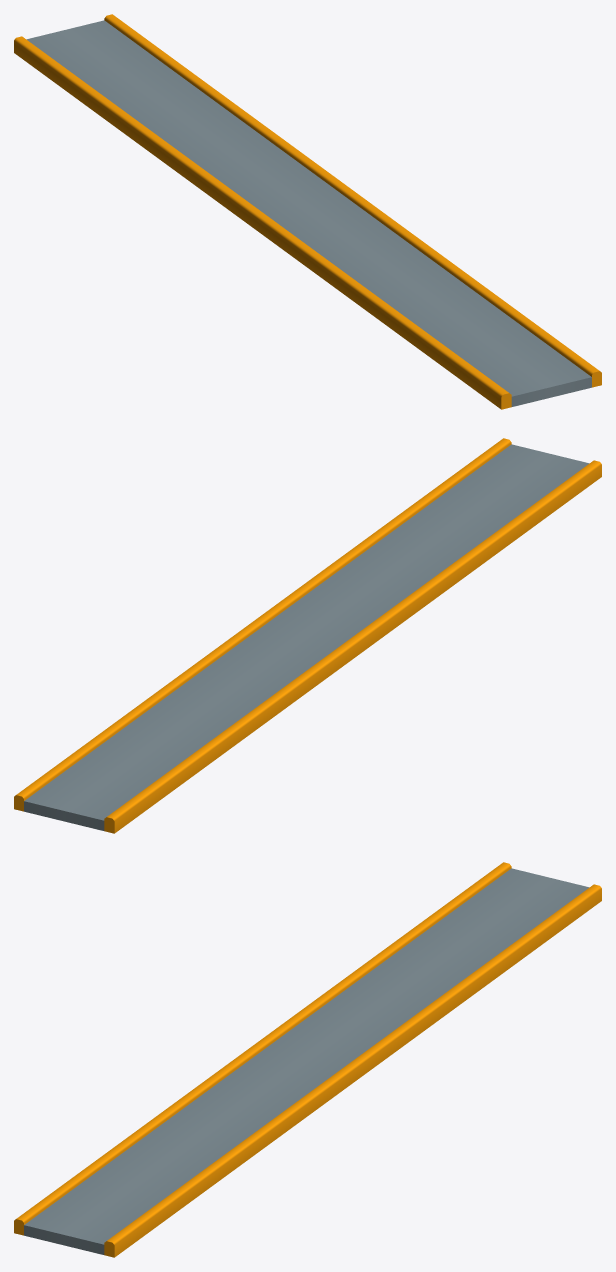
The model's file is platform_008.fbx.
3 views of the same model, one above another, from view 1: azimuth 30°, elevation 25°; view 2: azimuth 150°, elevation 25°; view 3: azimuth 330°, elevation 25° (orthographic).
Parts seen in each view (by area): view 1: platform_008; view 2: platform_008; view 3: platform_008.
Part boxes in pixels (x1,y1,x2,y2): platform_008: [14, 14, 601, 409]; platform_008: [14, 438, 601, 833]; platform_008: [14, 862, 601, 1257].
Bounding box in the file's own units: 500 × 4200 × 69.59.
